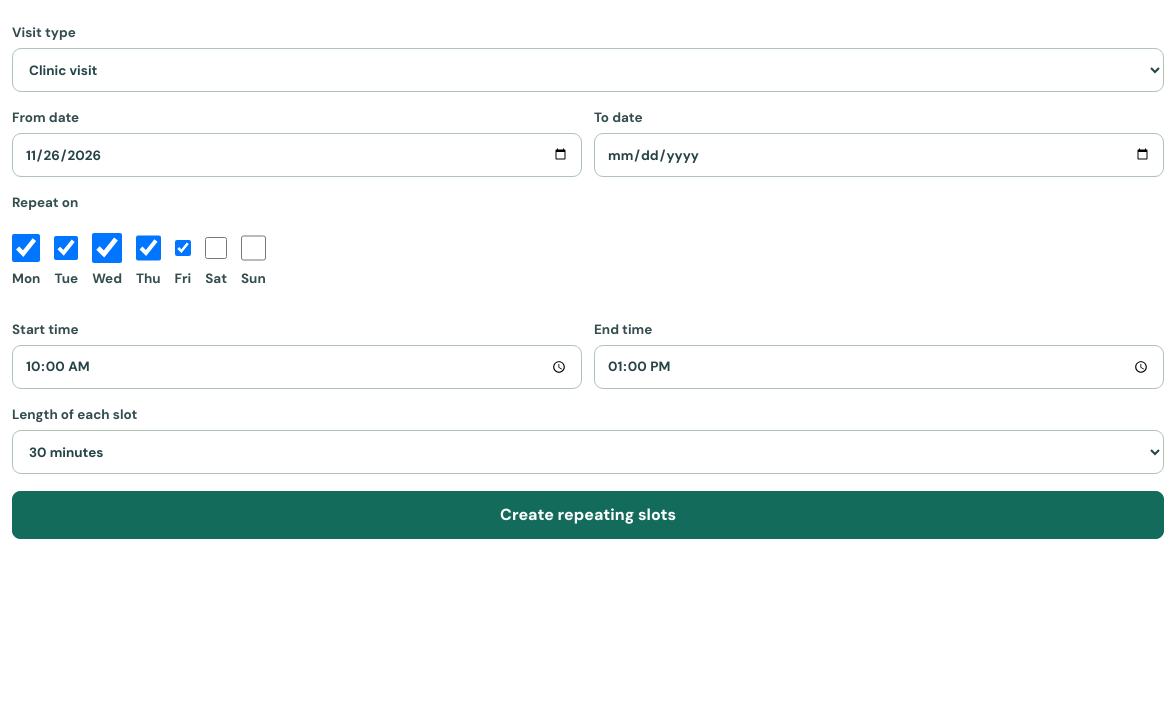
Test: BulkSlotForm › refuses to submit with no weekday selected and does not call the server
This screenshot has width=1176, height=720.
In the date field labelled "To date": {"x": 879, "y": 155} [594,133,1164,177], type "2099-01-10"
Click the checkbox labelled "Mon": {"x": 26, "y": 248} [12,226,40,270]
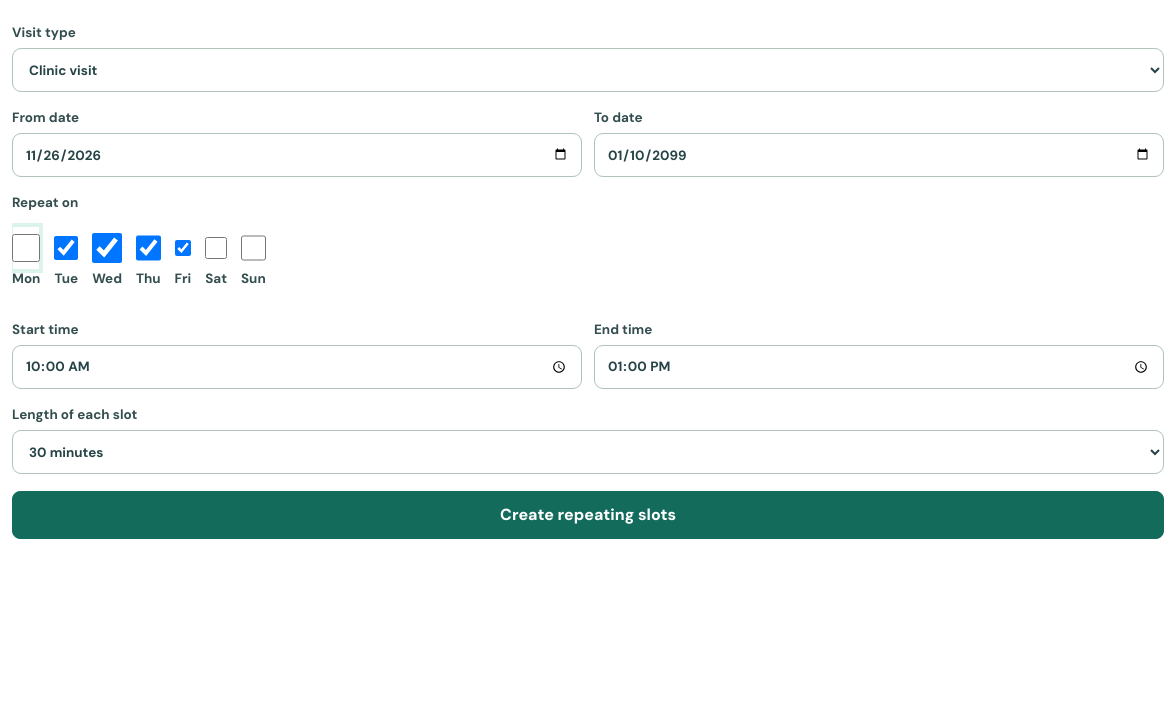
Click the checkbox labelled "Tue": {"x": 66, "y": 248} [54,226,78,270]
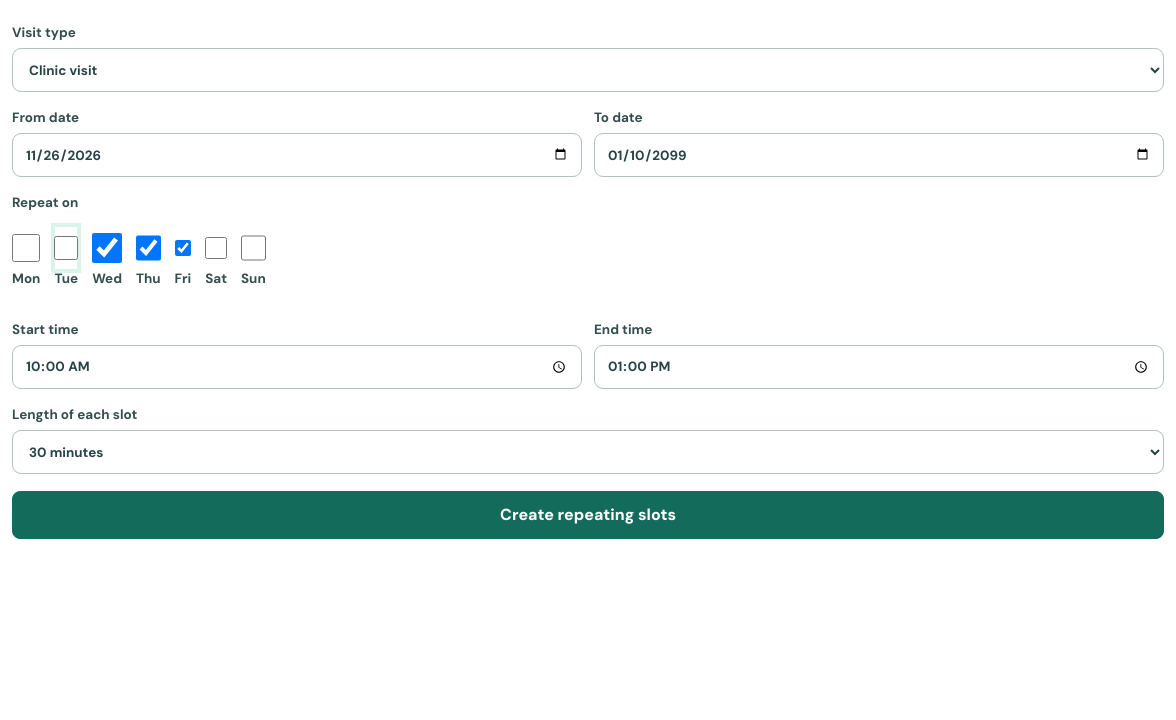
Click the checkbox labelled "Wed": {"x": 107, "y": 248} [92,226,122,270]
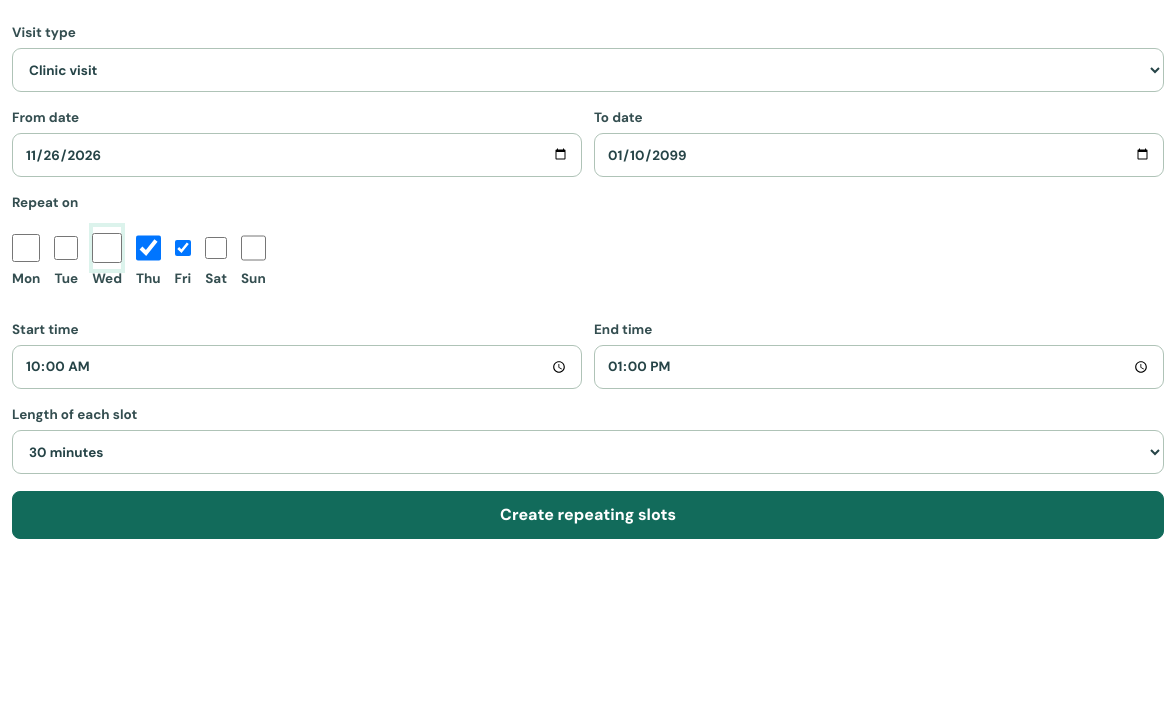
Click the checkbox labelled "Thu": {"x": 148, "y": 248} [136,226,161,270]
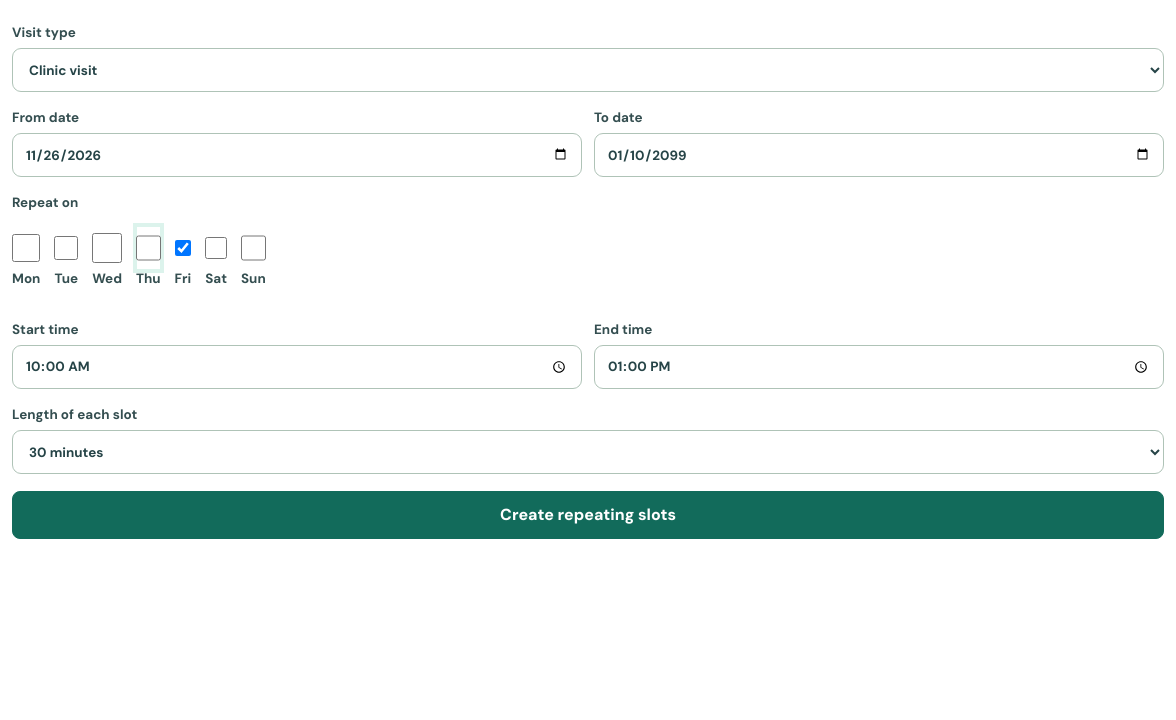
Click the checkbox labelled "Fri": {"x": 183, "y": 248} [175,226,191,270]
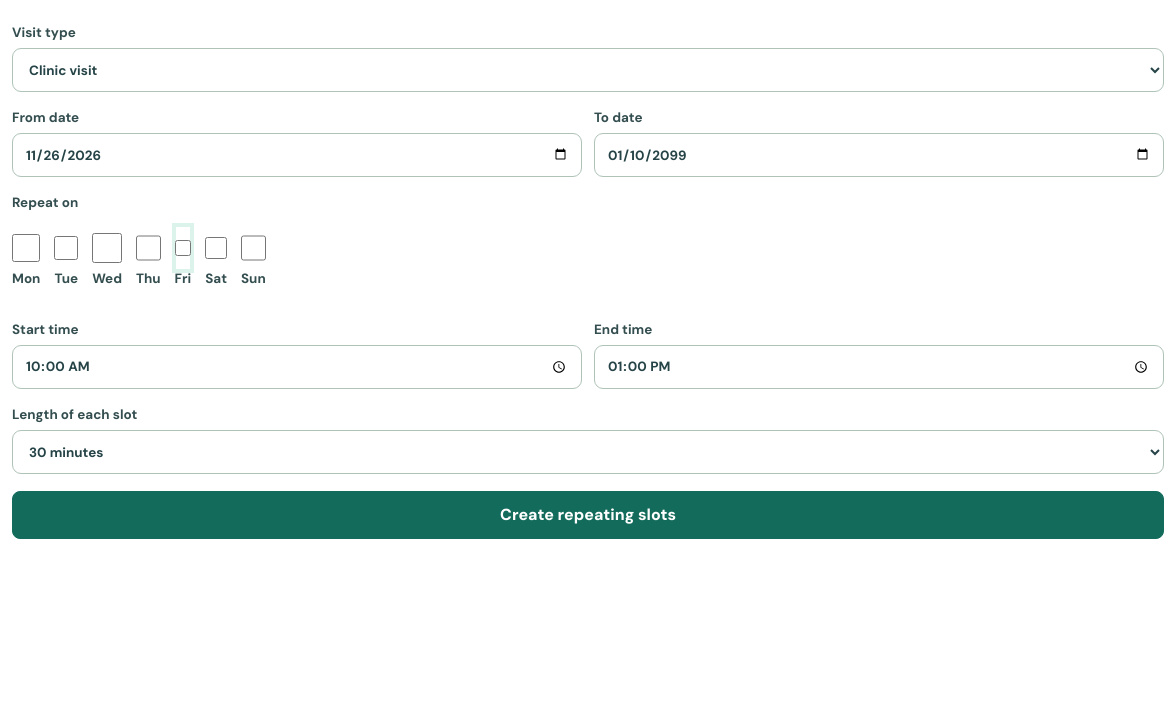
Click the button "Create repeating slots": {"x": 588, "y": 515} [12,491,1164,539]
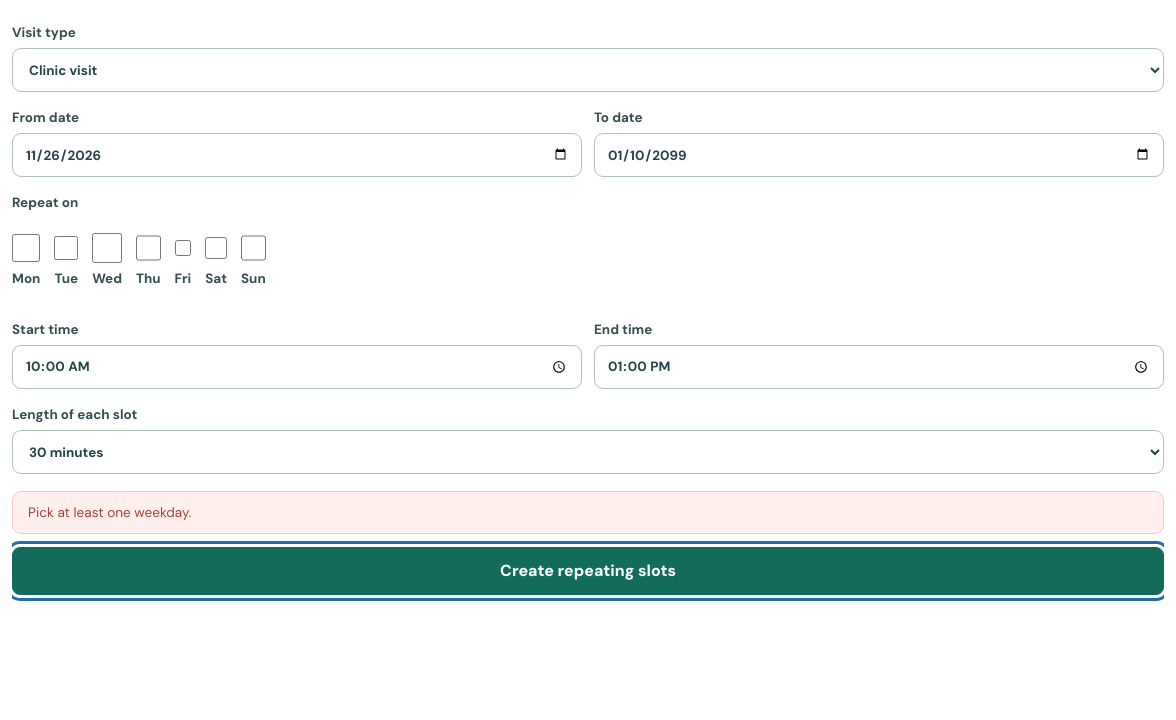
Now the text "Pick at least one weekday." is shown, box [12,491,1164,534]
